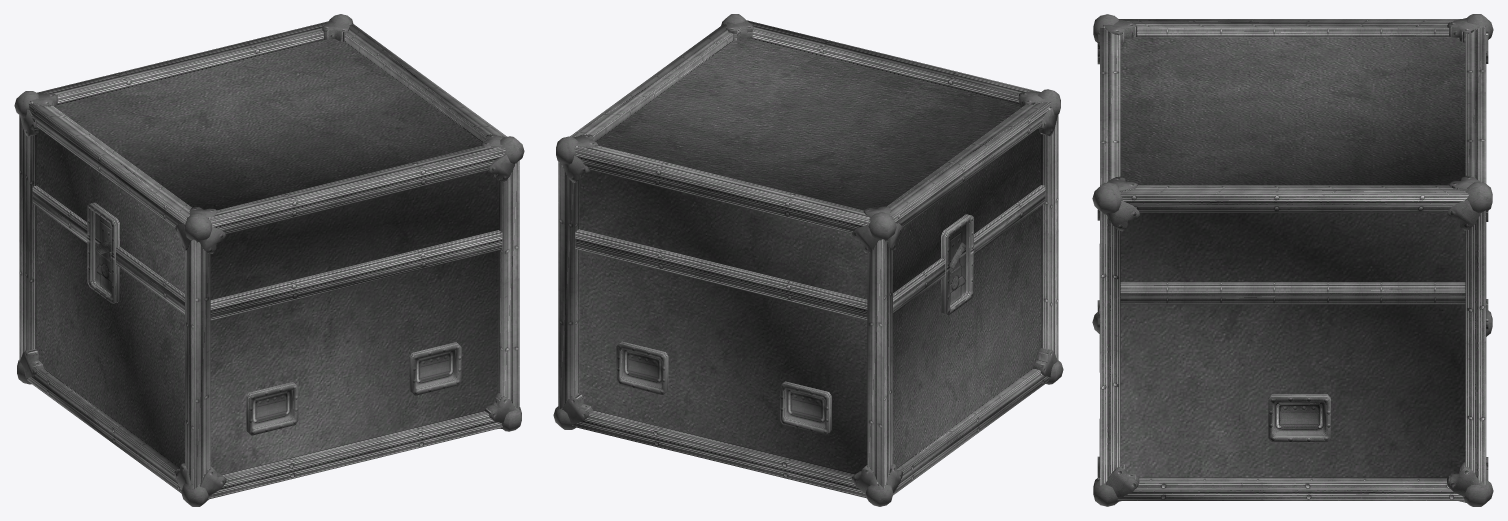
File: resource_box.obj
3 views of the same model, side by side, from view 1: azimuth 30°, elevation 25°; view 2: azimuth 150°, elevation 25°; view 3: azimuth 270°, elevation 25° (orthographic). The views are drawn at different scales.
Bounding box in the file's own units: 1.68 × 1.39 × 1.57.
1 material, 1 textured.
